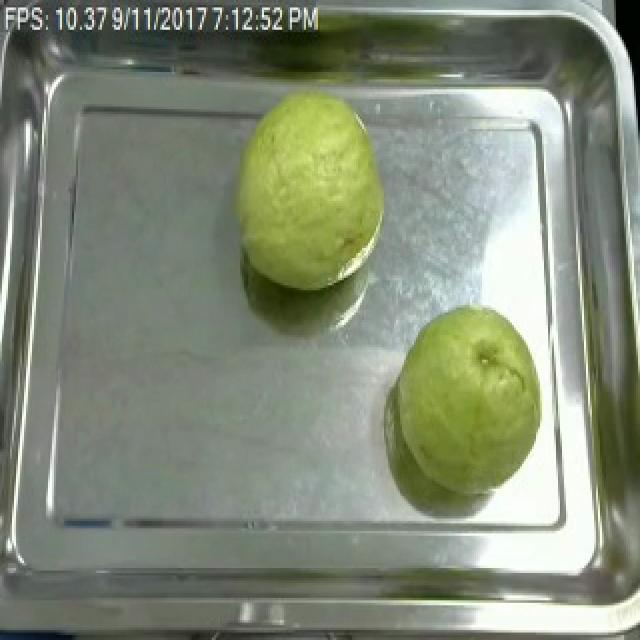Fruit: (224, 82, 394, 300), (384, 297, 558, 503)
